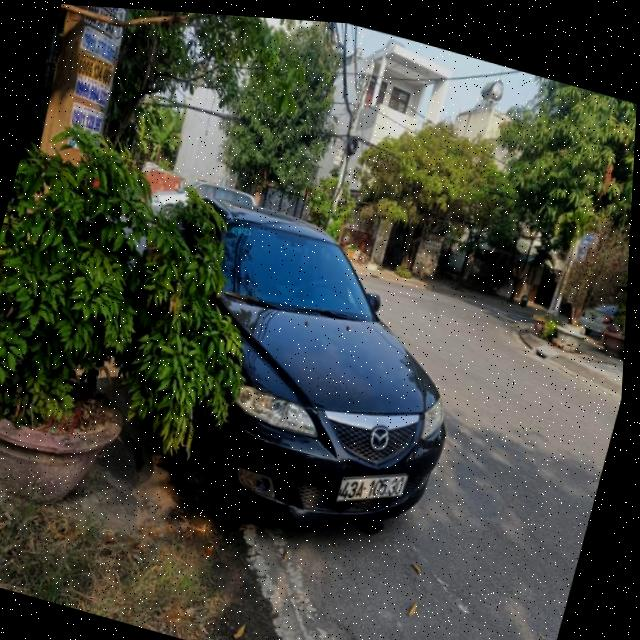car: (142, 191, 498, 573)
plate: (330, 453, 414, 523)
